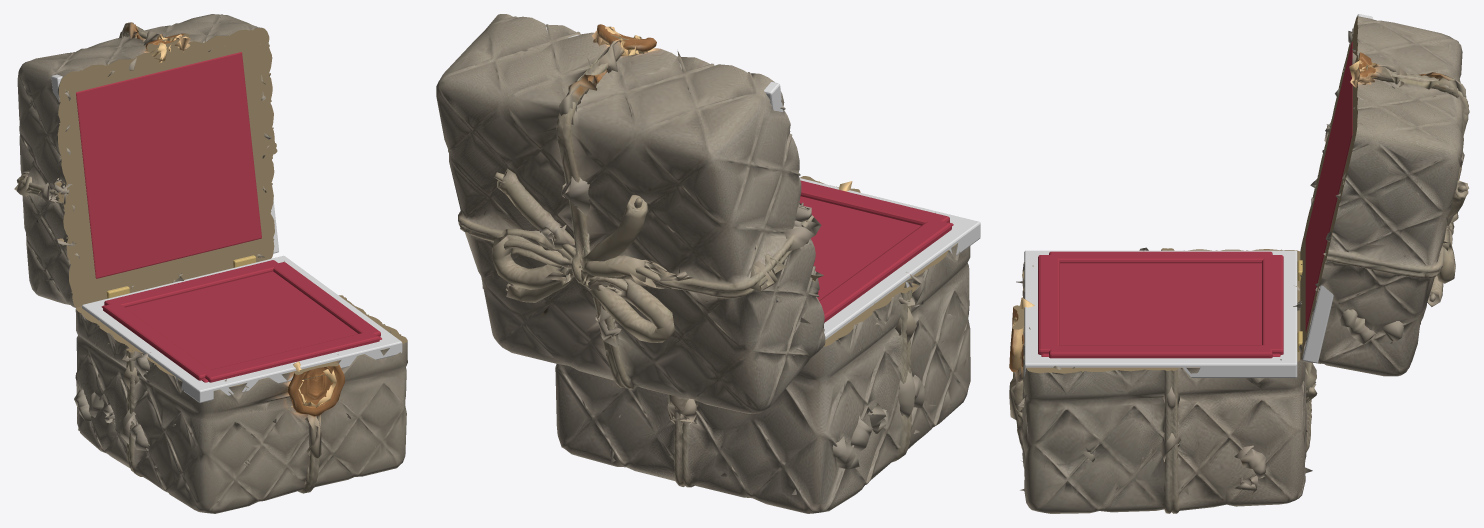
File: Box_H3_Open.fbx
The picture shows the model from 3 angles, left to right: view 1: azimuth 30°, elevation 25°; view 2: azimuth 150°, elevation 25°; view 3: azimuth 270°, elevation 25°; orthographic projection. The views are drawn at different scales.
Visible parts, largest first — view 1: LidPivot, BoxBody, VelvetInterior, VelvetRim, VelvetBolsterY_-1.0, VelvetBolsterY_1.0, VelvetBolsterX_-1.0, VelvetBolsterX_1.0; view 2: LidPivot, BoxBody, VelvetInterior, VelvetRim, VelvetBolsterX_-1.0, VelvetBolsterY_-1.0; view 3: LidPivot, BoxBody, VelvetInterior, VelvetRim, VelvetBolsterX_1.0, VelvetBolsterX_-1.0, VelvetBolsterY_1.0, VelvetBolsterY_-1.0.
Part boxes in pixels (<box>): LidPivot: <box>14,14,278,307</box>; BoxBody: <box>74,261,407,513</box>; VelvetInterior: <box>101,271,381,382</box>; VelvetRim: <box>82,255,402,402</box>; VelvetBolsterY_-1.0: <box>205,331,379,382</box>; VelvetBolsterY_1.0: <box>104,260,280,307</box>; VelvetBolsterX_-1.0: <box>103,303,211,380</box>; VelvetBolsterX_1.0: <box>272,262,380,336</box>; LidPivot: <box>436,14,825,413</box>; BoxBody: <box>555,176,970,513</box>; VelvetInterior: <box>799,196,953,300</box>; VelvetRim: <box>800,178,980,339</box>; VelvetBolsterX_-1.0: <box>819,220,951,322</box>; VelvetBolsterY_-1.0: <box>800,180,949,225</box>; LidPivot: <box>1293,14,1469,376</box>; BoxBody: <box>1009,247,1317,513</box>; VelvetInterior: <box>1041,263,1280,356</box>; VelvetRim: <box>1024,250,1297,377</box>; VelvetBolsterX_1.0: <box>1049,345,1272,358</box>; VelvetBolsterX_-1.0: <box>1049,251,1272,263</box>; VelvetBolsterY_1.0: <box>1262,255,1283,354</box>; VelvetBolsterY_-1.0: <box>1038,255,1059,354</box>.
Bounding box in the file's own units: 0.3931 × 0.5688 × 0.5773.
